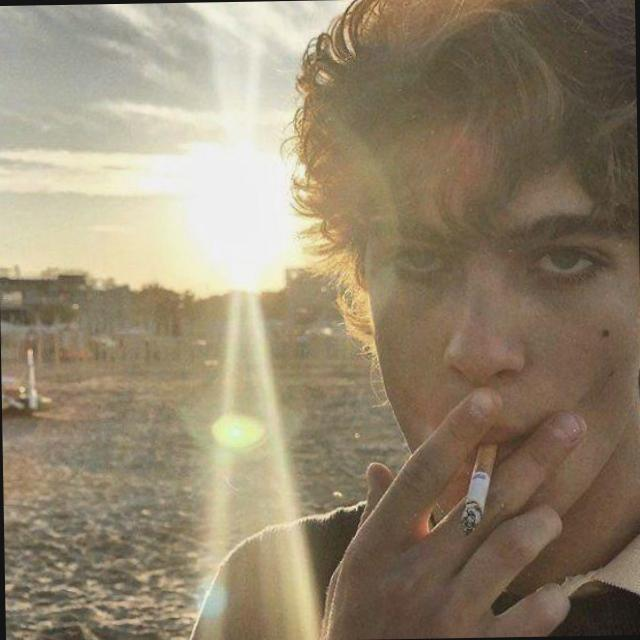smoke: (451, 417, 505, 541)
